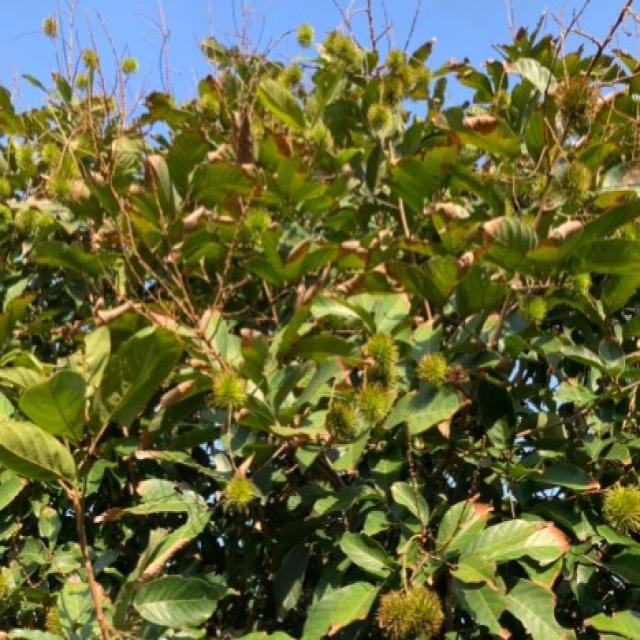Leaf Blight: (60, 63, 234, 251), (244, 83, 384, 310), (429, 183, 510, 301), (434, 75, 512, 172)
